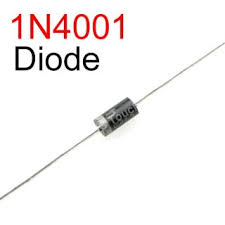diode: (69, 85, 156, 153)
